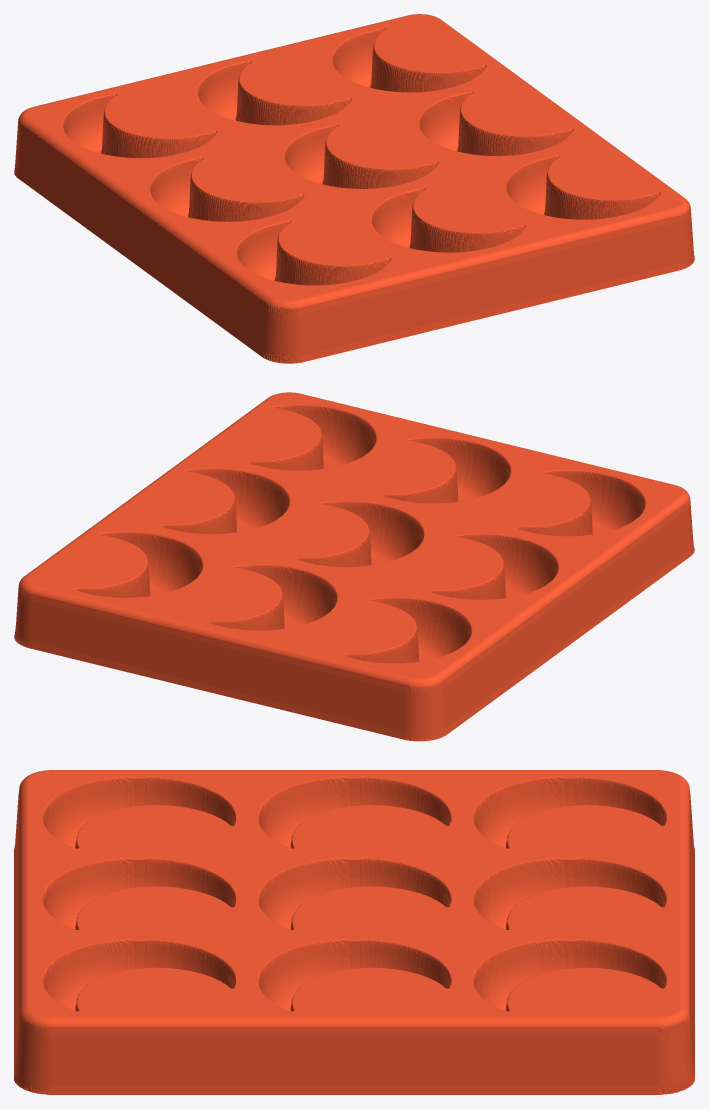
File: mold.glb
3 renders of one model, top to bottom at view 1: azimuth 30°, elevation 25°; view 2: azimuth 150°, elevation 25°; view 3: azimuth 270°, elevation 25°, orthographic. The views are drawn at different scales.
Visible parts, largest first — view 1: geometry_0; view 2: geometry_0; view 3: geometry_0.
Boxes of the visible parts, left/top/right/bottom form: geometry_0: left=14, top=14, right=694, bottom=363; geometry_0: left=14, top=392, right=694, bottom=741; geometry_0: left=14, top=770, right=694, bottom=1094.
Bounding box in the file's own units: 0.1435 × 0.0185 × 0.1595.
